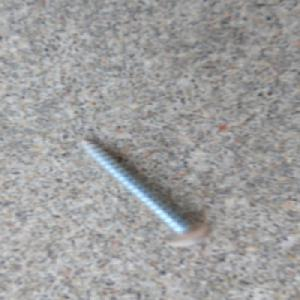Screw: (76, 136, 213, 249)
